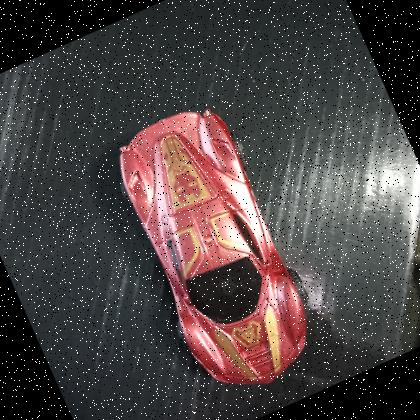Car: (90, 88, 341, 414)
